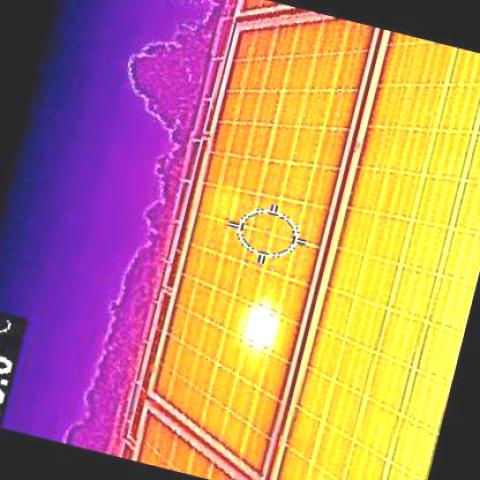fault: (241, 302, 276, 341)
